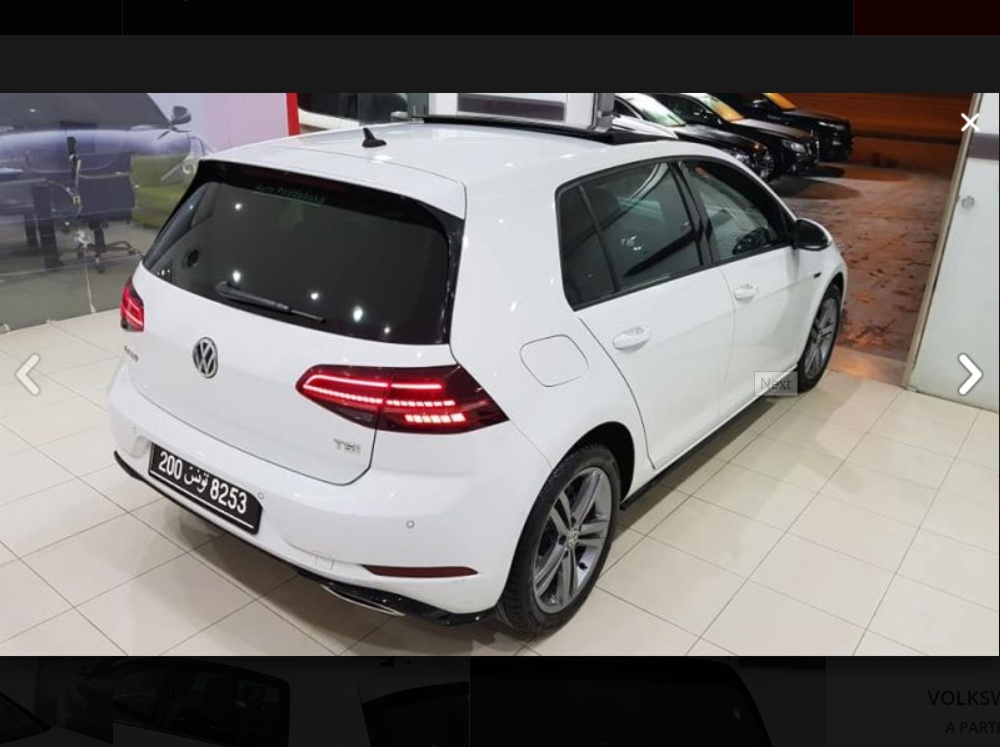LP: (146, 440, 261, 533)
